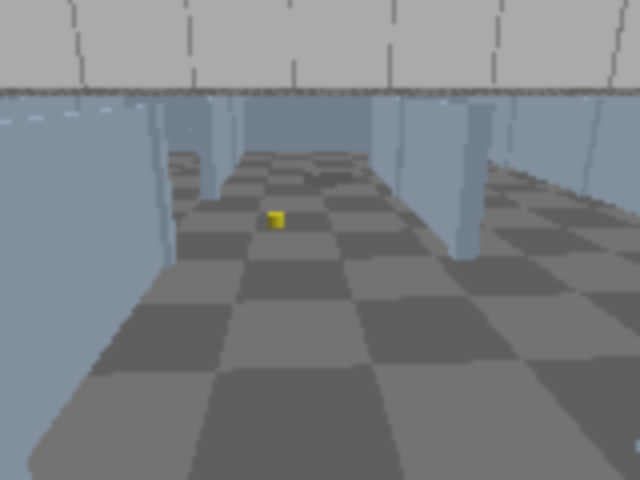obstacle: (304, 167, 350, 188)
